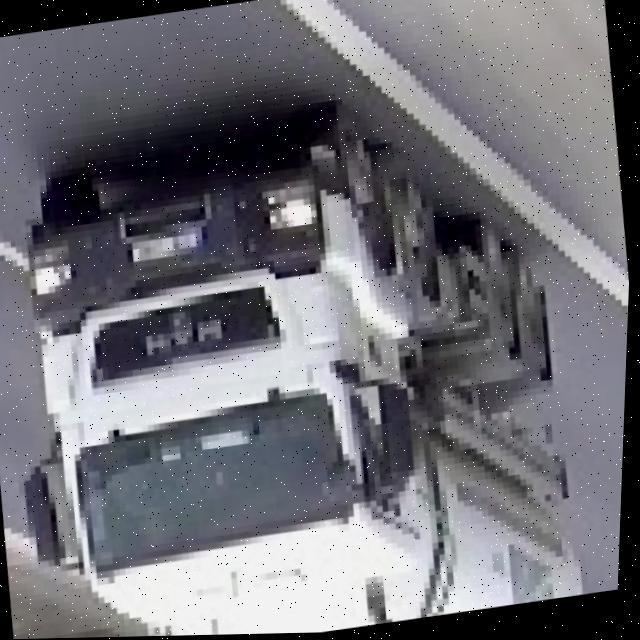truck: (0, 96, 600, 640)
